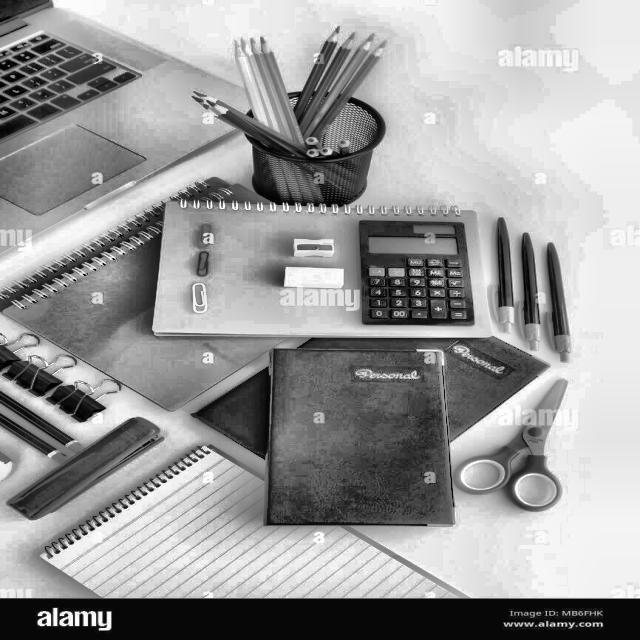Notebook: (0, 173, 344, 418), (0, 444, 479, 598), (165, 200, 505, 338), (264, 344, 454, 532)
Pen: (542, 238, 572, 363), (517, 230, 547, 354), (494, 219, 521, 335)
